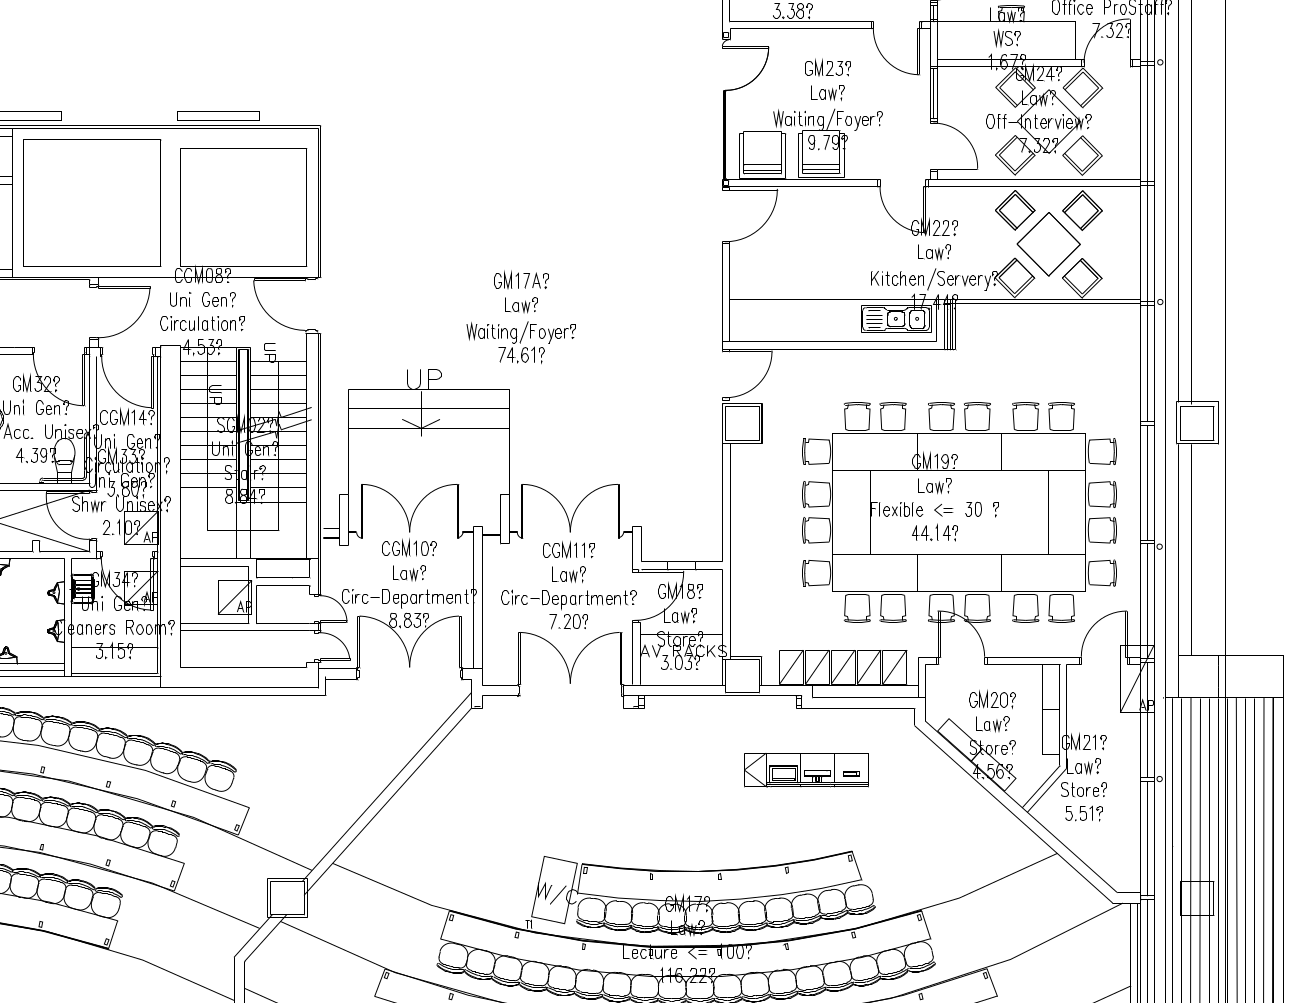door: (515, 622, 627, 693), (352, 475, 464, 546), (354, 608, 467, 678), (515, 473, 627, 544), (98, 342, 158, 415), (872, 180, 932, 244), (720, 186, 780, 251), (718, 41, 778, 105), (866, 19, 926, 83), (925, 113, 985, 177), (31, 342, 85, 412), (1077, 7, 1137, 71), (92, 284, 158, 339), (621, 570, 687, 625), (246, 278, 312, 333), (723, 345, 777, 404), (1079, 607, 1132, 665), (936, 607, 989, 665), (39, 490, 96, 543), (315, 626, 352, 671), (318, 591, 349, 628)
